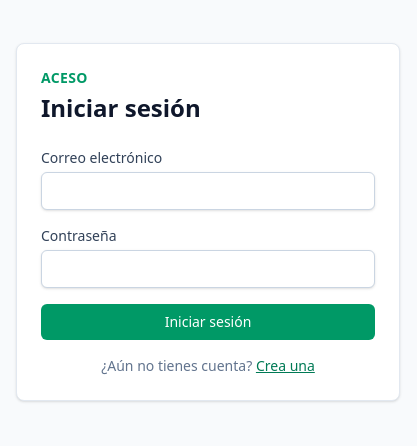
Test: authentication flow › shows the backend message when credentials are wrong
The width and height of the screenshot is (417, 446).
Type "runner@example.com" into the field labelled "Correo electrónico".
click(208, 191); type("runner@example.com")  # box [41, 172, 375, 210]
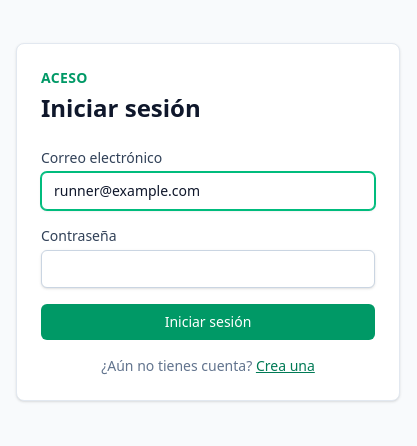
Type "wrong" into the password field labelled "Contraseña".
click(208, 269); type("wrong")  # box [41, 250, 375, 288]
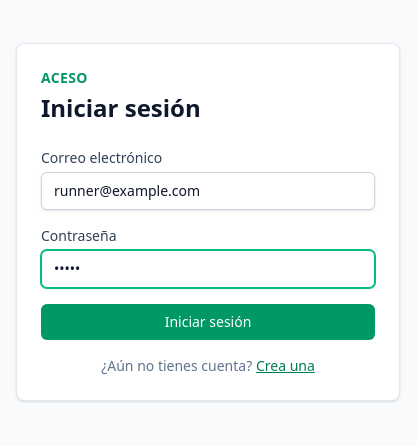
Click the button "Iniciar sesión".
click(208, 322)  # box [41, 304, 375, 340]
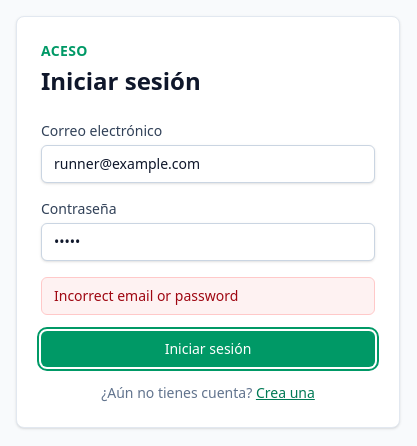
Check: the text "Incorrect email or password" is shown, box [54, 286, 238, 305]
